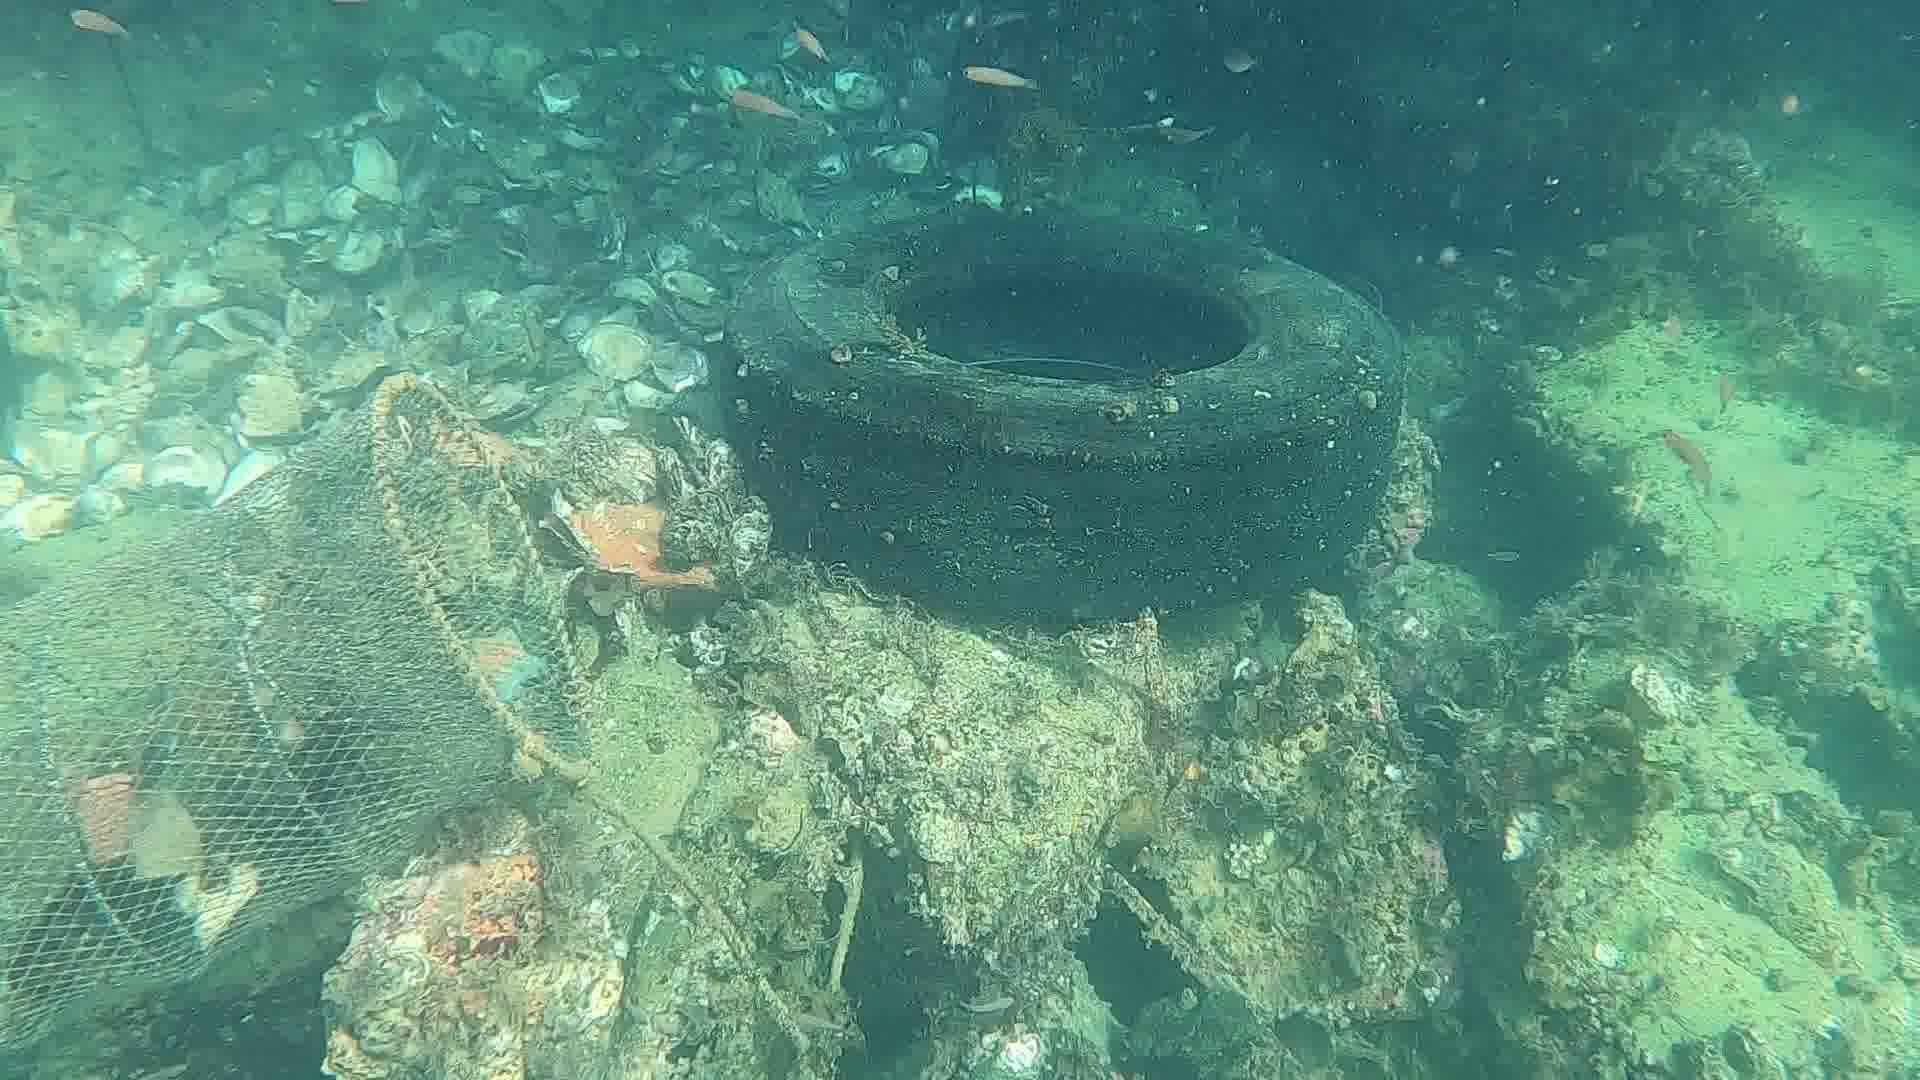rope: (576, 775, 832, 1080)
spring fish trap: (0, 361, 600, 1080)
tire: (708, 206, 1414, 632)
